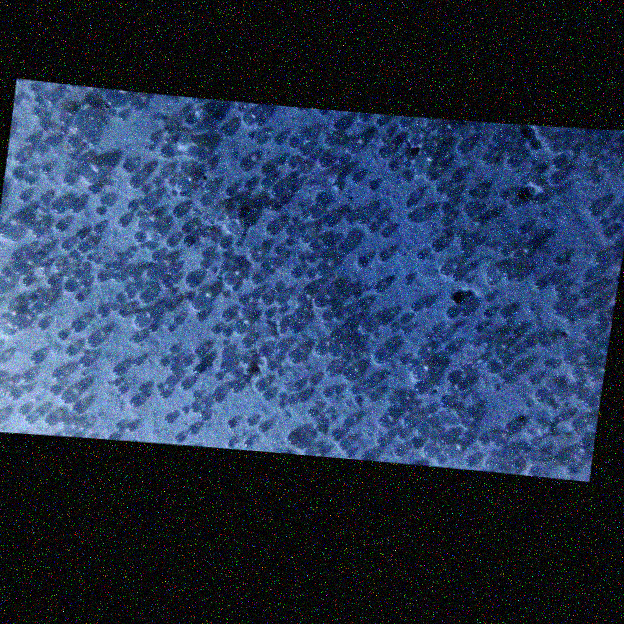GrassBeadSeg: (59, 160, 614, 473), (15, 77, 500, 406), (95, 137, 540, 476), (22, 177, 582, 431), (114, 111, 497, 469), (35, 161, 450, 460), (50, 149, 452, 444), (71, 146, 436, 414), (18, 188, 480, 397), (36, 114, 370, 398), (203, 129, 519, 420), (171, 206, 597, 406), (84, 108, 446, 342), (285, 175, 597, 444), (45, 184, 386, 426), (132, 232, 524, 434), (60, 168, 438, 377), (151, 131, 412, 413), (98, 195, 395, 438), (129, 201, 600, 352), (23, 135, 268, 423), (153, 178, 561, 340), (45, 164, 396, 351), (177, 178, 406, 436), (69, 199, 341, 413), (39, 255, 526, 373), (19, 168, 262, 403), (223, 184, 445, 438), (264, 200, 475, 466), (69, 184, 464, 326), (236, 160, 616, 304), (25, 193, 480, 313), (170, 130, 449, 324), (96, 305, 466, 451), (135, 239, 452, 407), (212, 171, 463, 377), (193, 255, 562, 395), (29, 302, 477, 417), (308, 154, 489, 438), (208, 212, 421, 443), (128, 328, 497, 461), (243, 215, 471, 422), (41, 148, 241, 378), (73, 237, 374, 388), (80, 279, 440, 405), (219, 251, 439, 457), (47, 256, 370, 395), (145, 200, 345, 423), (190, 298, 593, 408), (29, 96, 220, 327), (199, 140, 362, 409), (48, 117, 496, 213), (290, 143, 431, 447), (93, 205, 472, 317), (166, 183, 367, 394), (141, 309, 438, 447), (0, 219, 189, 428), (198, 290, 473, 428), (256, 250, 457, 432), (248, 272, 457, 445), (175, 320, 473, 439), (28, 223, 277, 364), (356, 112, 463, 434), (229, 254, 416, 427), (60, 173, 428, 260), (162, 282, 384, 423), (42, 223, 193, 423), (208, 206, 441, 335), (33, 146, 428, 222), (137, 346, 405, 457), (167, 223, 392, 354), (219, 173, 401, 333), (269, 257, 430, 435), (136, 219, 406, 325), (116, 204, 263, 394), (287, 322, 477, 464), (344, 213, 476, 416), (243, 180, 522, 271), (74, 347, 344, 441), (332, 273, 547, 391), (356, 213, 459, 459), (67, 190, 508, 246), (11, 108, 206, 233), (54, 331, 514, 382), (198, 259, 375, 389), (6, 220, 129, 399), (337, 263, 454, 450), (74, 183, 328, 269), (59, 319, 374, 388), (295, 253, 459, 385), (200, 248, 438, 333), (103, 91, 272, 208), (439, 134, 503, 436), (182, 272, 356, 379), (138, 218, 337, 303), (125, 159, 427, 212), (77, 420, 444, 463), (138, 187, 285, 294), (182, 159, 250, 390), (242, 376, 460, 447), (95, 272, 233, 374), (192, 162, 252, 392), (212, 373, 387, 447), (164, 377, 501, 415), (116, 195, 212, 328), (440, 203, 512, 377), (114, 397, 425, 436), (320, 214, 390, 381), (34, 320, 135, 431), (225, 222, 280, 422), (60, 273, 132, 423), (221, 167, 307, 284), (317, 368, 436, 452), (20, 293, 131, 383), (533, 145, 602, 289), (108, 236, 192, 335), (336, 213, 424, 307), (422, 129, 518, 215), (0, 275, 67, 394), (311, 343, 385, 439), (378, 228, 430, 360), (260, 206, 333, 294), (366, 393, 488, 445), (63, 346, 388, 364), (197, 195, 329, 237), (232, 240, 303, 318), (127, 331, 283, 366), (135, 211, 229, 266), (141, 152, 242, 203), (17, 367, 122, 416), (111, 242, 241, 281), (421, 126, 448, 308), (317, 396, 394, 457), (22, 137, 94, 202), (360, 171, 413, 257), (13, 127, 95, 182), (173, 409, 308, 442), (272, 207, 320, 292), (405, 404, 502, 446), (0, 390, 92, 434), (148, 324, 200, 400), (324, 202, 408, 249), (302, 289, 360, 357), (13, 99, 72, 164), (397, 355, 451, 425), (305, 262, 329, 418), (189, 286, 385, 305), (236, 105, 294, 168), (274, 269, 313, 362), (128, 395, 236, 428), (259, 178, 287, 305), (412, 120, 517, 153), (157, 125, 213, 186), (54, 234, 156, 267), (314, 386, 387, 432), (47, 97, 113, 147), (336, 118, 382, 189), (576, 147, 623, 216), (128, 175, 284, 195), (523, 337, 581, 389), (149, 253, 272, 277), (499, 195, 546, 256), (523, 400, 586, 445), (538, 339, 598, 381), (170, 189, 244, 220), (196, 389, 359, 403), (483, 327, 532, 373), (266, 363, 316, 408), (340, 122, 374, 188), (467, 144, 525, 182), (438, 362, 476, 420), (9, 221, 64, 261), (195, 134, 336, 149), (452, 124, 518, 156), (350, 287, 396, 332), (0, 267, 31, 333), (128, 269, 156, 342), (354, 299, 394, 350), (405, 195, 457, 234), (219, 250, 262, 297), (550, 291, 605, 326), (464, 251, 523, 283), (594, 173, 623, 237), (239, 295, 327, 316), (91, 134, 171, 157), (298, 121, 345, 160), (481, 271, 520, 317), (80, 365, 163, 386), (502, 426, 546, 465), (14, 263, 75, 291), (519, 156, 562, 195), (471, 307, 509, 351), (245, 380, 282, 425), (564, 303, 591, 364), (219, 103, 268, 136), (526, 374, 582, 402), (85, 224, 119, 270), (534, 272, 592, 298), (147, 120, 195, 151), (16, 192, 48, 237), (272, 227, 313, 262), (69, 314, 142, 333), (256, 344, 283, 393), (166, 177, 233, 196), (168, 110, 223, 133), (440, 216, 473, 254), (2, 353, 33, 393), (294, 280, 338, 308), (384, 135, 418, 171), (153, 251, 173, 311), (377, 119, 406, 158), (67, 227, 101, 260), (287, 349, 317, 386), (0, 317, 23, 363), (272, 134, 305, 164), (442, 229, 508, 244), (299, 233, 351, 252), (215, 260, 248, 289), (203, 337, 250, 355), (302, 244, 319, 293), (494, 437, 518, 471), (261, 389, 331, 400), (339, 353, 349, 430), (525, 452, 583, 465), (155, 359, 179, 389), (263, 299, 285, 331), (349, 352, 362, 404), (406, 438, 435, 458), (42, 242, 78, 258), (307, 287, 329, 313), (311, 252, 328, 285), (445, 207, 469, 229), (131, 277, 170, 290), (320, 306, 353, 321), (243, 358, 263, 381), (351, 308, 359, 357), (582, 132, 597, 157), (408, 358, 424, 380), (16, 246, 45, 258), (194, 366, 201, 412), (329, 345, 351, 359), (320, 385, 343, 398), (140, 178, 151, 199), (193, 346, 202, 369), (454, 228, 470, 237), (563, 464, 577, 474), (298, 236, 318, 243), (328, 242, 348, 249), (246, 338, 253, 356), (126, 178, 138, 188), (337, 243, 347, 253), (307, 241, 318, 250), (337, 330, 342, 349), (343, 305, 352, 315), (328, 349, 339, 357), (238, 355, 247, 364), (202, 148, 208, 159), (269, 191, 280, 197), (269, 184, 280, 190), (191, 365, 199, 373), (467, 225, 471, 239), (239, 338, 244, 349), (189, 402, 195, 410), (138, 202, 144, 210), (192, 354, 203, 358), (340, 331, 344, 341), (340, 353, 345, 360), (194, 371, 202, 375), (505, 241, 509, 247), (330, 333, 333, 340), (139, 198, 143, 202), (331, 330, 336, 333), (339, 350, 342, 354), (342, 360, 348, 362), (129, 295, 132, 297), (334, 340, 340, 341)
